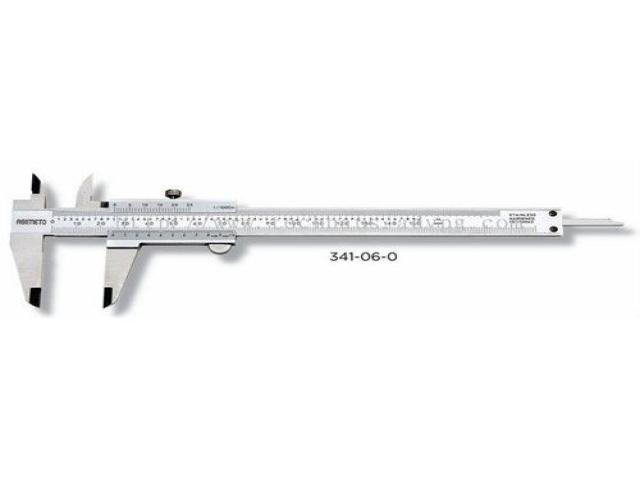Calipers: (10, 174, 624, 307)
